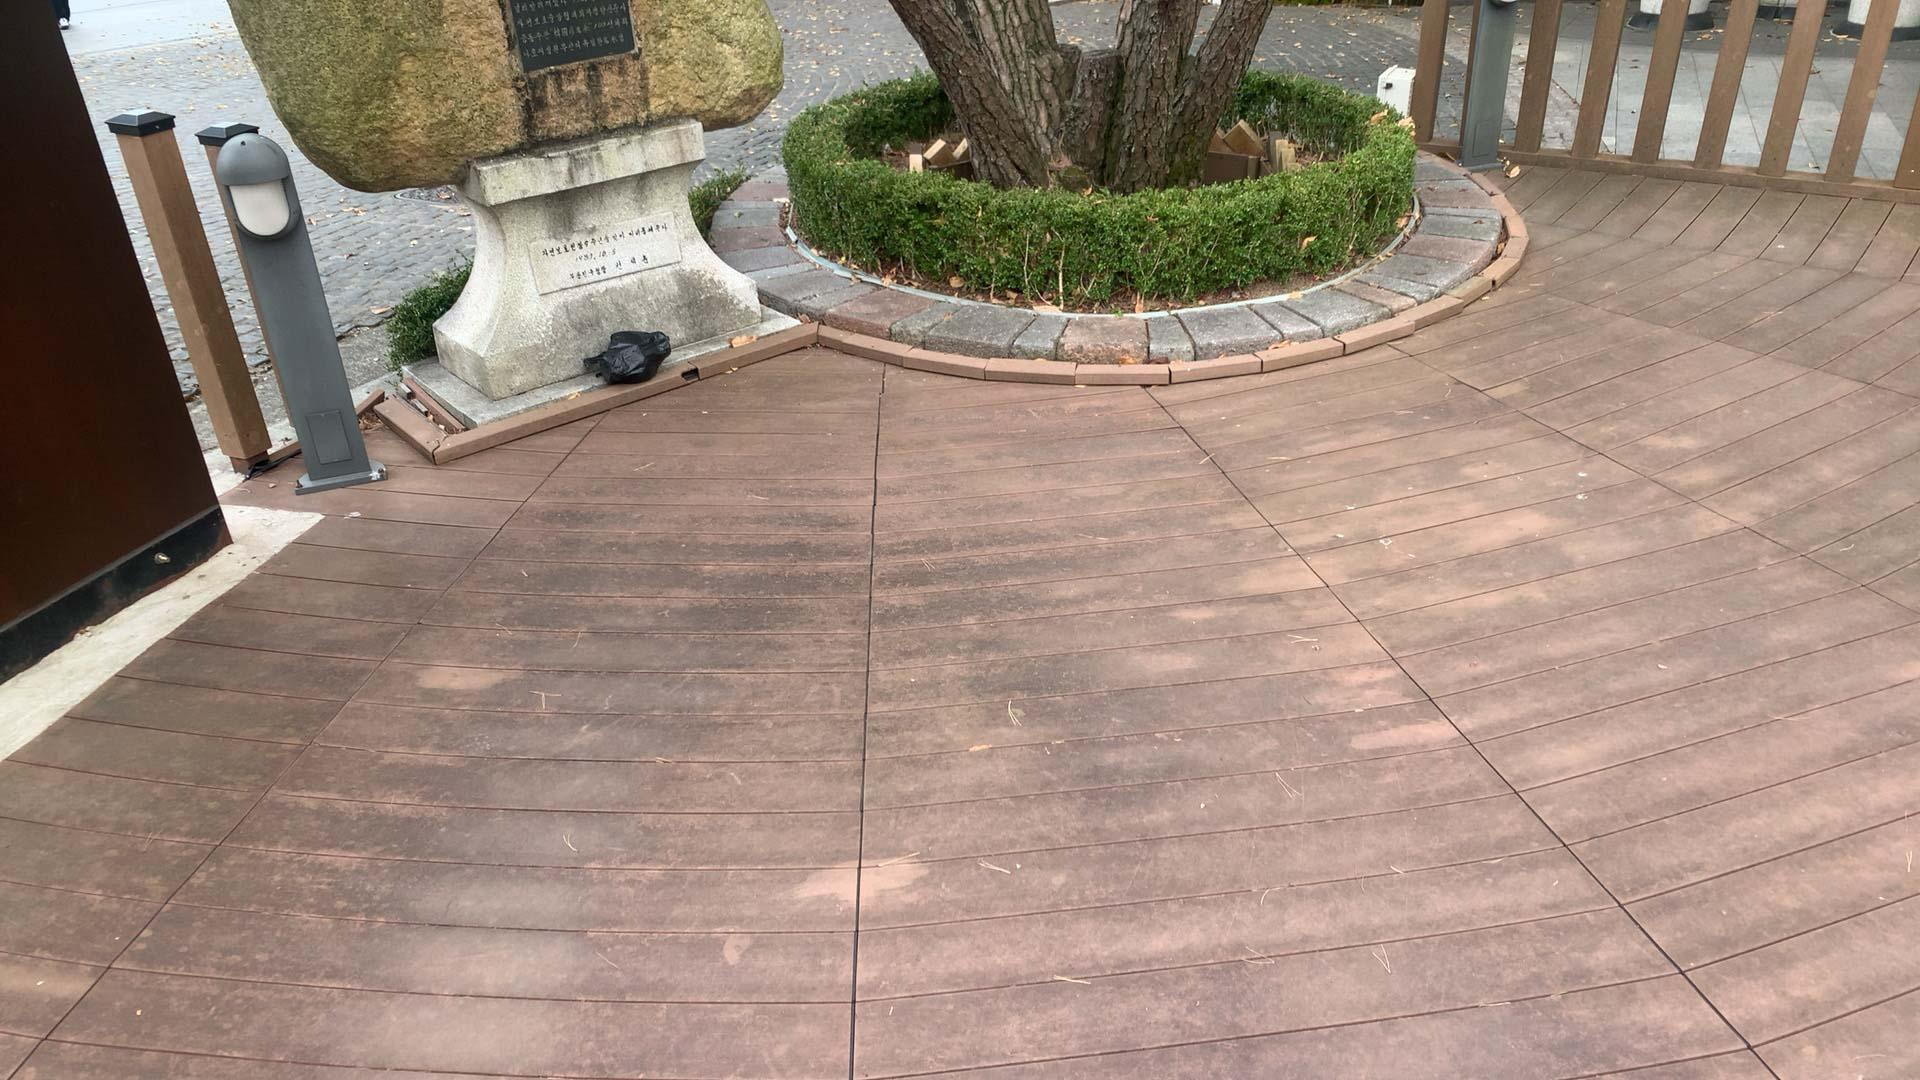black_bag: (570, 327, 676, 386)
